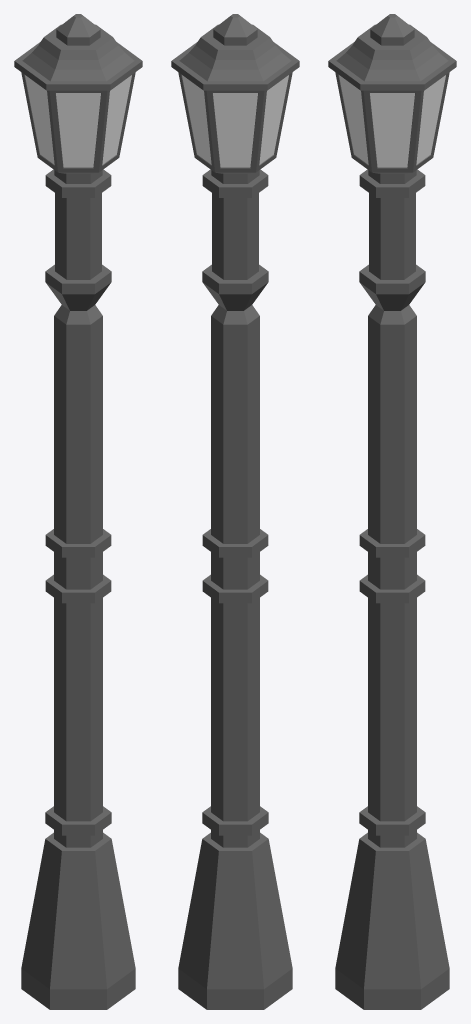
The model's file is SPW_Medieval_Light.glb.
3 views of the same model, side by side, from view 1: azimuth 90°, elevation 25°; view 2: azimuth 210°, elevation 25°; view 3: azimuth 270°, elevation 25° (orthographic).
Parts seen in each view (by area): view 1: SPW_Medieval_Light; view 2: SPW_Medieval_Light; view 3: SPW_Medieval_Light.
Boxes of the visible parts, box(x1,y1,x2,y2) form: SPW_Medieval_Light: box(14, 14, 142, 1009); SPW_Medieval_Light: box(171, 14, 299, 1009); SPW_Medieval_Light: box(328, 14, 456, 1009).
Size of the model in its own units: 0.1964 by 1.9 by 0.2268.
1 material, 1 textured.
